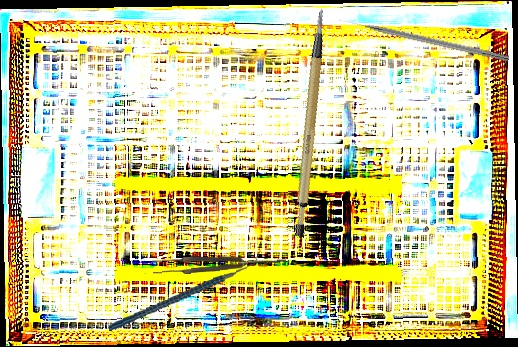Chopper: (103, 250, 267, 331)
Hook Surgical: (338, 15, 510, 63)
Scalpel Handle: (263, 7, 362, 239)
Tissue Forceps: (152, 253, 287, 275)
